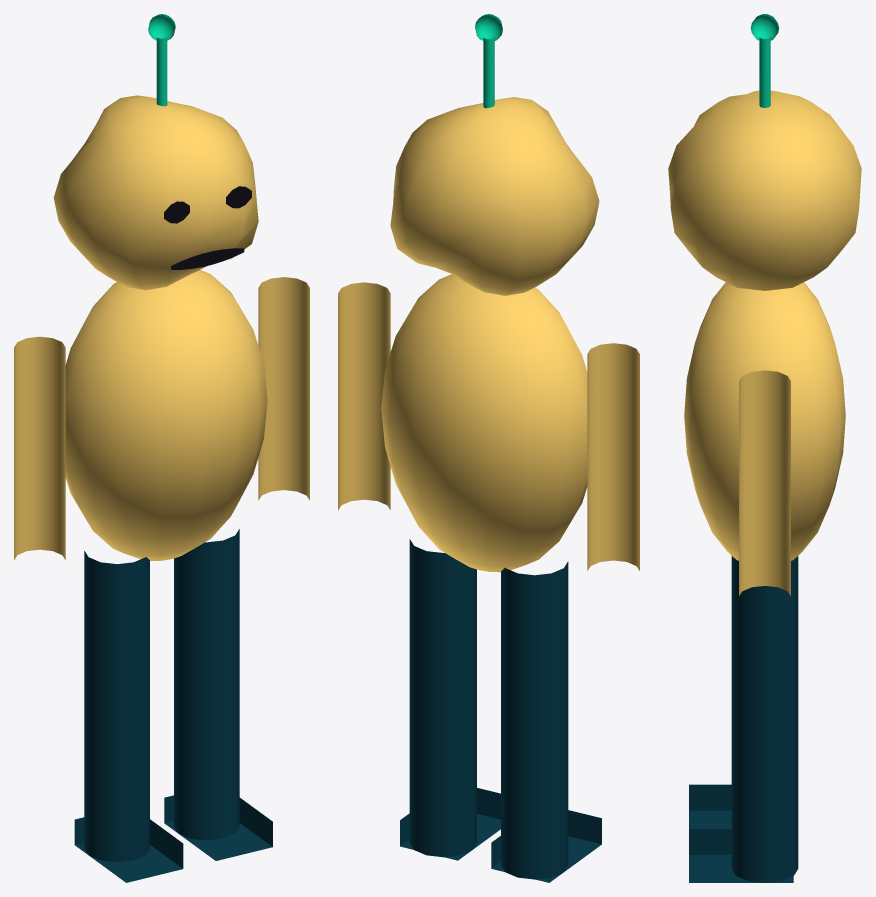
The model's file is agent.neon-moth.glb.
3 views of the same model, side by side, from view 1: azimuth 30°, elevation 25°; view 2: azimuth 150°, elevation 25°; view 3: azimuth 270°, elevation 25° (orthographic). The views are drawn at different scales.
Visible parts, largest first — view 1: body, legs, head, face, antenna; view 2: body, legs, head, antenna; view 3: body, head, legs, antenna.
Boxes of the visible parts, x1=… form: body: x1=14, y1=270, x2=309, y2=560; legs: x1=74, y1=529, x2=272, y2=882; head: x1=53, y1=95, x2=258, y2=290; face: x1=164, y1=186, x2=251, y2=269; antenna: x1=148, y1=14, x2=175, y2=106; body: x1=338, y1=274, x2=639, y2=572; legs: x1=400, y1=539, x2=601, y2=882; head: x1=390, y1=97, x2=599, y2=295; antenna: x1=475, y1=14, x2=502, y2=108; body: x1=684, y1=282, x2=845, y2=595; head: x1=668, y1=90, x2=861, y2=290; legs: x1=689, y1=556, x2=798, y2=882; antenna: x1=750, y1=14, x2=779, y2=107.
Bounding box in the file's own units: 0.7543 × 2.05 × 0.4322.
